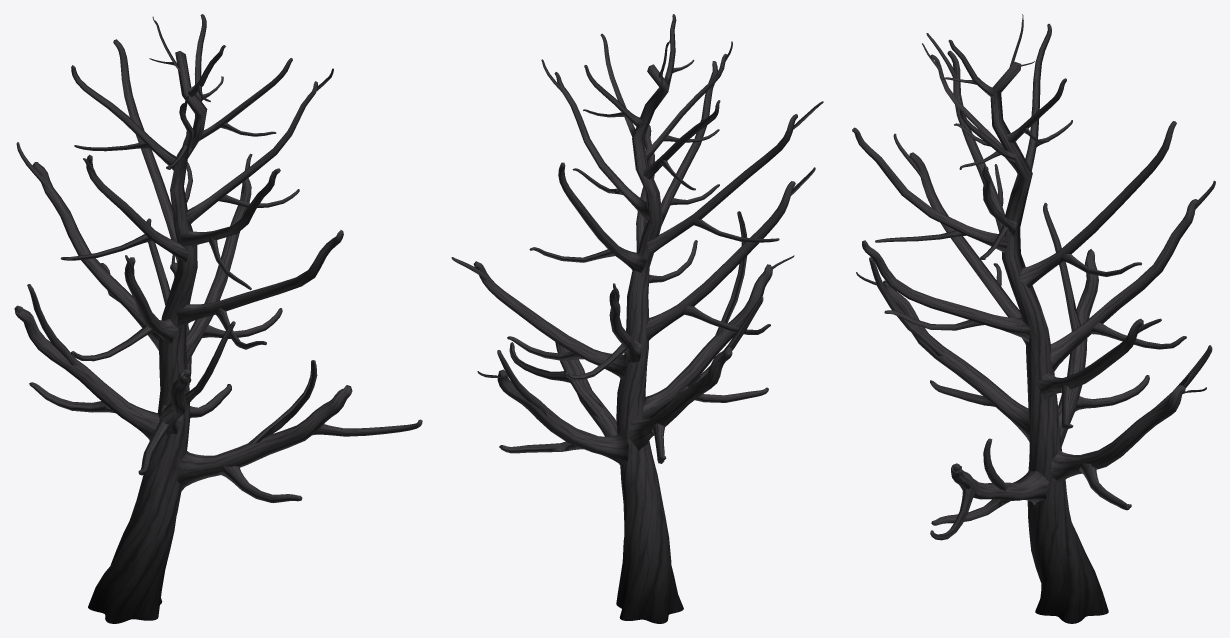
The model's file is DeadTree_2.gltf.
The picture shows the model from 3 angles, left to right: view 1: azimuth 30°, elevation 25°; view 2: azimuth 150°, elevation 25°; view 3: azimuth 270°, elevation 25°; orthographic projection. The views are drawn at different scales.
Parts seen in each view (by area): view 1: DeadTree_2; view 2: DeadTree_2; view 3: DeadTree_2.
Boxes of the visible parts, <box> form: DeadTree_2: <box>14,14,422,623</box>; DeadTree_2: <box>451,14,823,623</box>; DeadTree_2: <box>852,14,1215,623</box>.
Size of the model in its own units: 6.73 by 11.49 by 6.38.
1 material, 1 textured.
